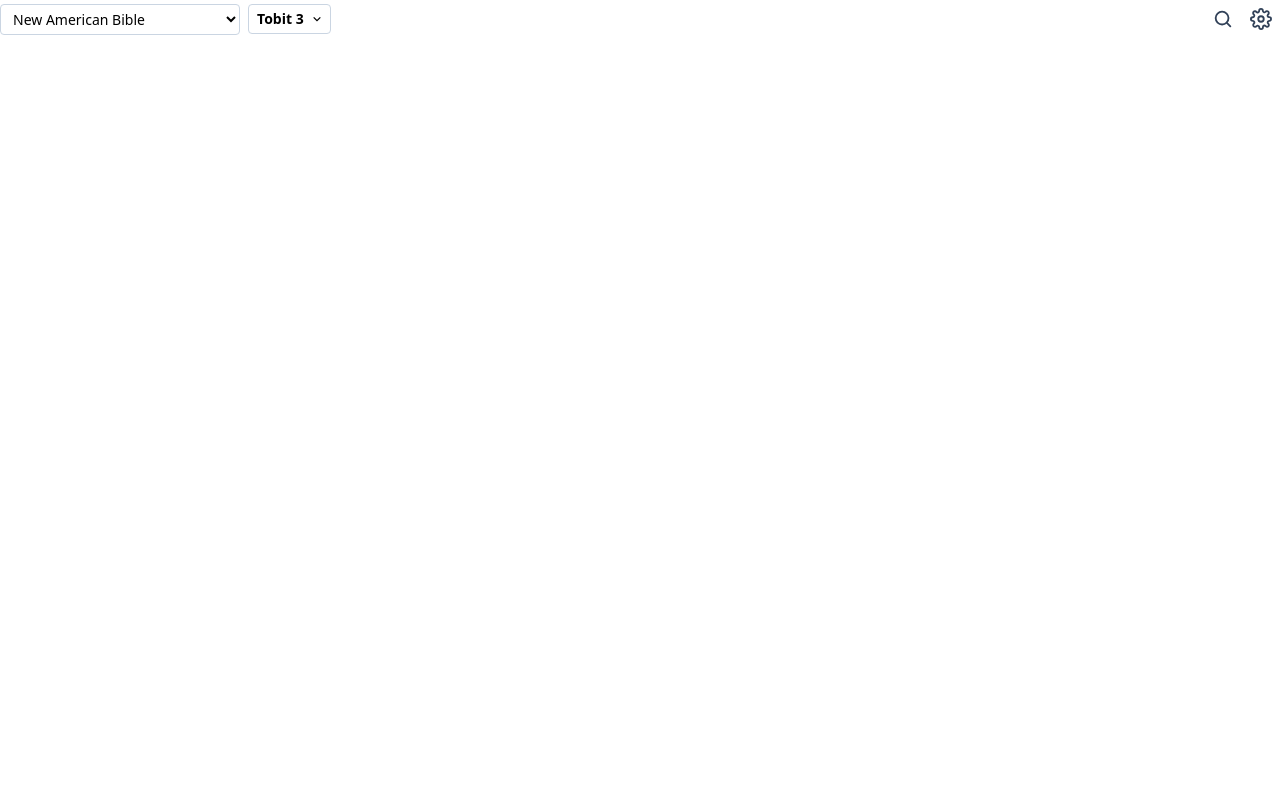
it: ReaderBar › escapeClosesThePopupFirst
This screenshot has width=1280, height=800.
Click the button named "Reading settings" at [1261, 19], box [1242,0,1279,38]
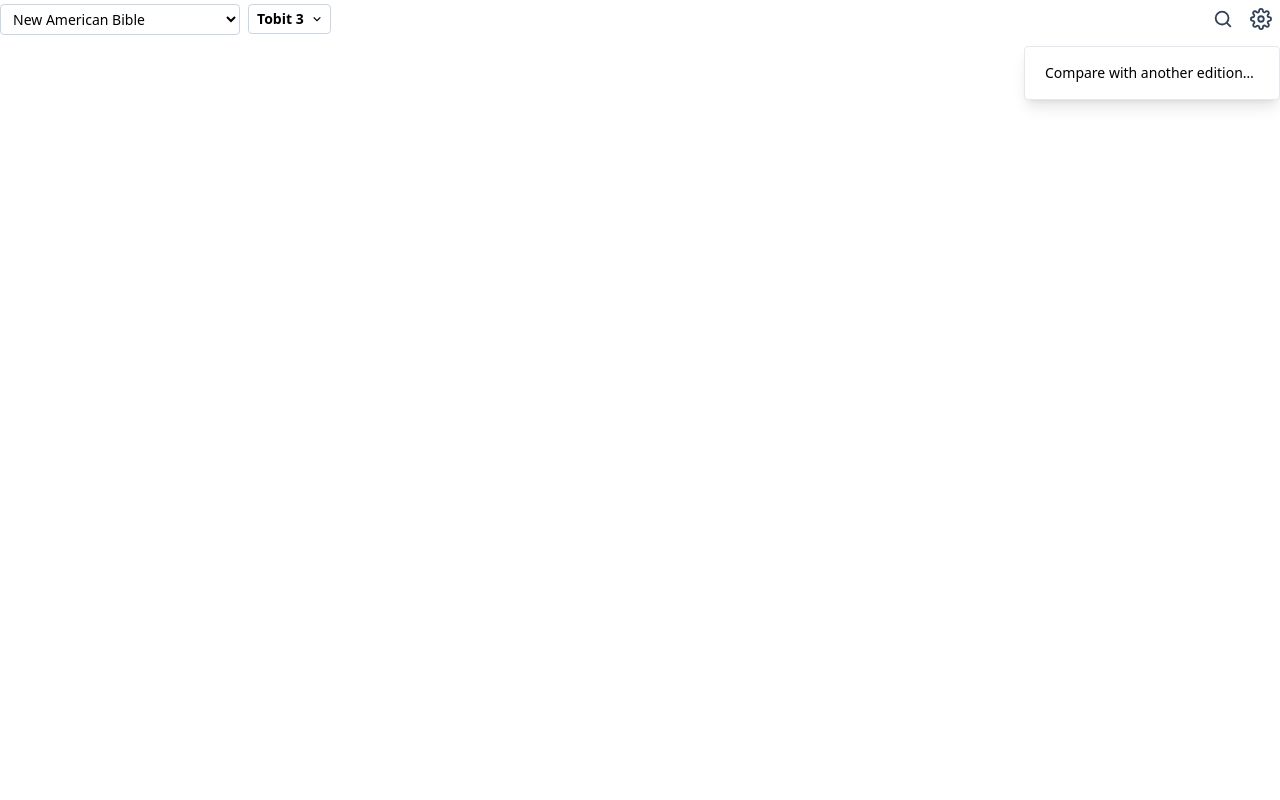
Click the button "Compare with another edition…" at [1152, 73], box [1033,55,1271,91]
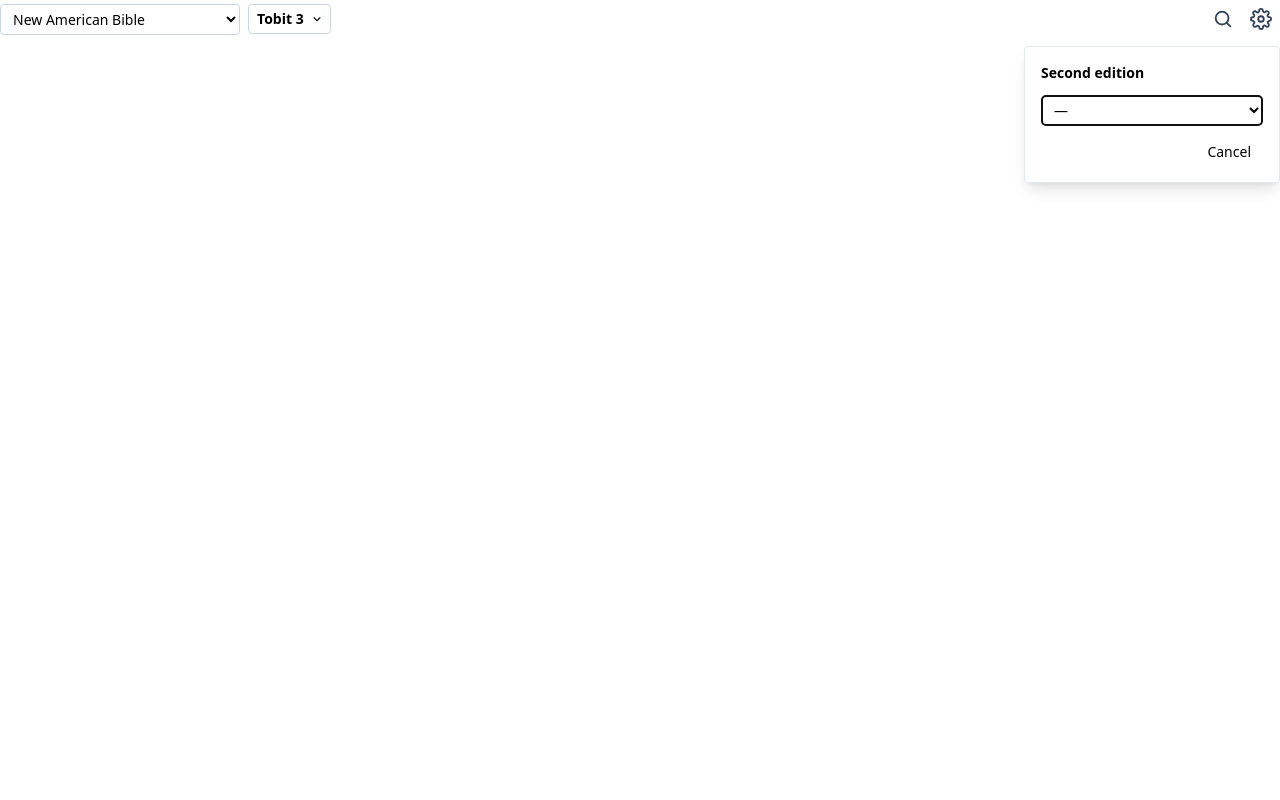
Press Escape
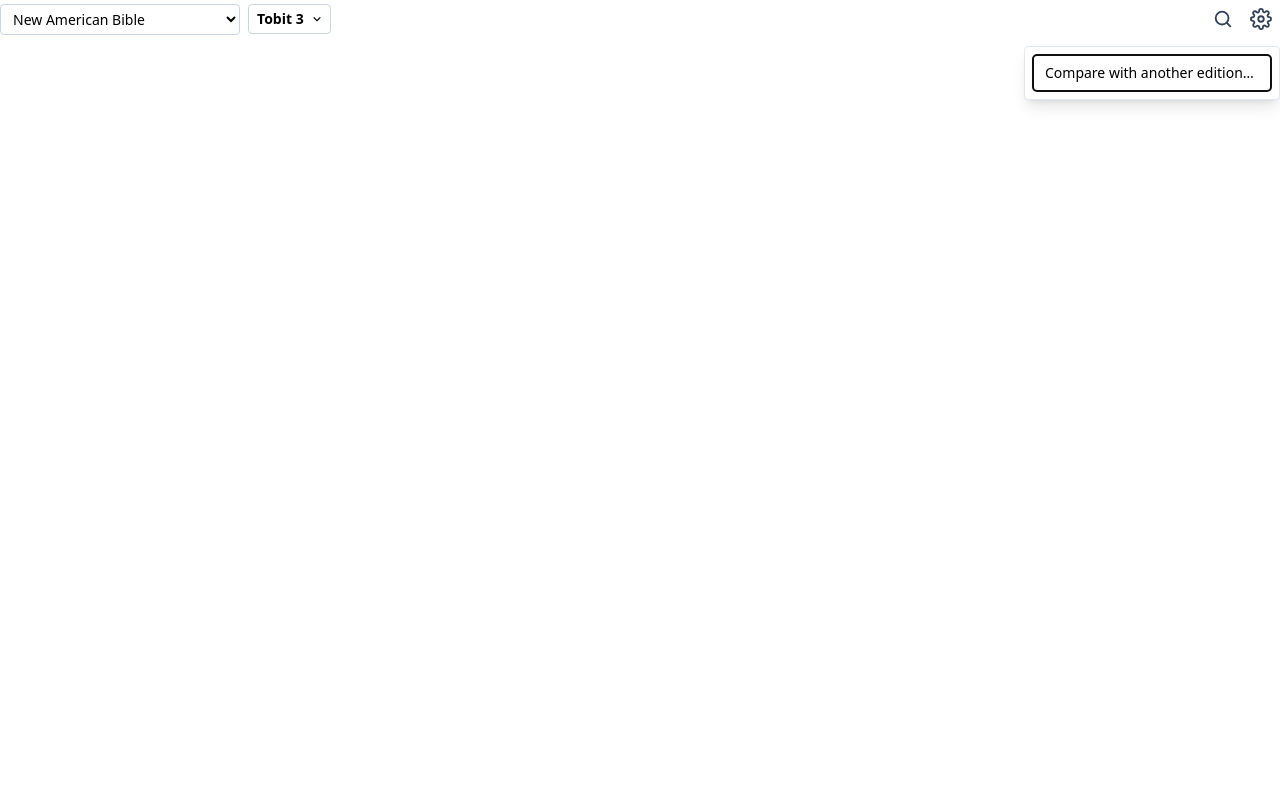
expect the dialog is gone: met
